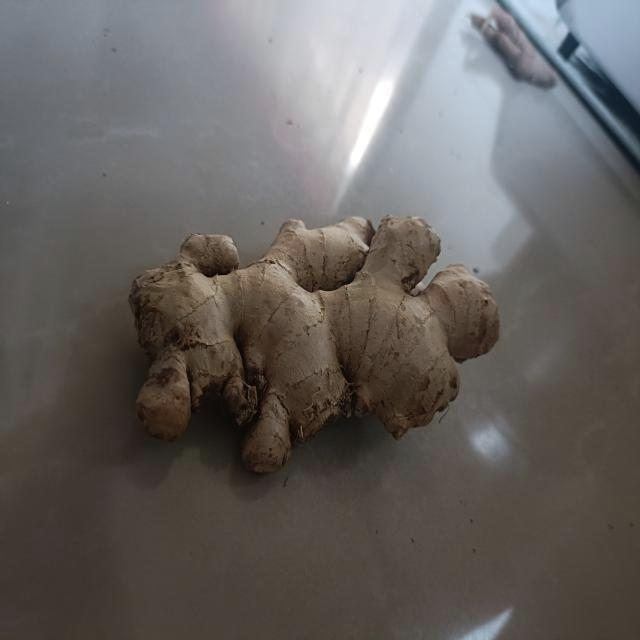ginger: (127, 213, 500, 479)
